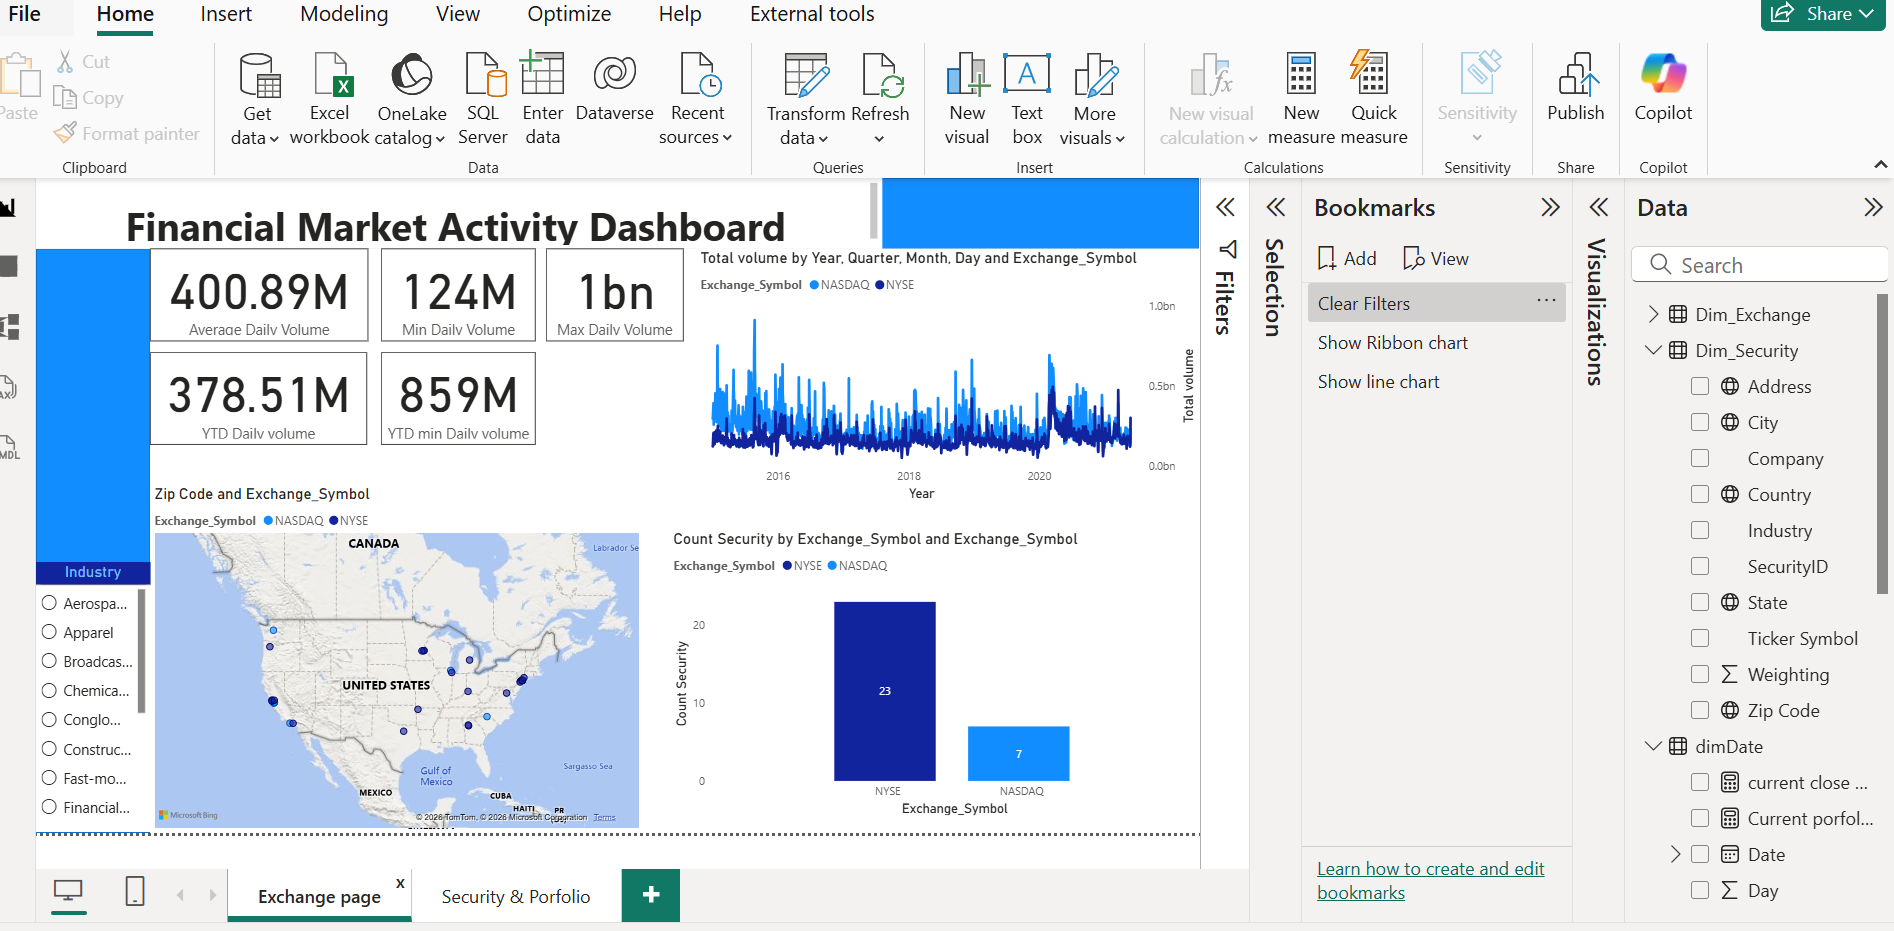

This screenshot's page, from the dashboard's own definition file:
{"tool":"powerbi","page":{"name":"Exchange page","canvas":[1280,720],"ordinal":0},"visuals":[{"type":"shape","box":[0,0,1278.9,77.9],"z":0},{"type":"shape","box":[0,77.9,125.7,642.6],"z":1000},{"type":"textbox","box":[0,0,930.5,77.9],"z":2000},{"type":"card","fields":{"Values":["factActivity.Average Daily Volume"]},"box":[125.7,77.9,240.2,101.8],"z":3000},{"type":"card","fields":{"Values":["dimDate.Min Daily Volume"]},"box":[380.2,77.9,170.2,101.8],"z":4000},{"type":"card","fields":{"Values":["dimDate.Max Daily Volume"]},"box":[561.5,77.9,151.1,101.8],"z":5000},{"type":"card","fields":{"Values":["dimDate.YTD Daily volume"]},"box":[125.7,190.9,238.6,101.8],"z":6000},{"type":"columnChart","fields":{"Category":["Dim_Exchange.Exchange_Symbol"],"Y":["factActivity.Count Security"],"Series":["Dim_Exchange.Exchange_Symbol"]},"box":[696.7,386.5,583.8,319.7],"z":7000},{"type":"map","fields":{"Category":["Dim_Security.Zip Code"],"Series":["Dim_Exchange.Exchange_Symbol"]},"box":[125.7,337.2,542.4,383.3],"z":8000},{"type":"lineChart","fields":{"Y2":["factActivity.Total volume"],"Category":["dimDate.Date.Variation.Date Hierarchy.Year","dimDate.Date.Variation.Date Hierarchy.Quarter","dimDate.Date.Variation.Date Hierarchy.Month","dimDate.Date.Variation.Date Hierarchy.Day"],"Series":["Dim_Exchange.Exchange_Symbol"]},"box":[725.3,77.9,553.5,281.5],"z":9000},{"type":"card","fields":{"Values":["dimDate.YTD min Daily volume"]},"box":[380.2,190.9,170.2,101.8],"z":10000},{"type":"listSlicer","fields":{"Values":["Dim_Security.Industry"]},"box":[0,422.6,126,296.6],"z":10001}]}

Visuals, with their boxes on the page's 1280x720 design canvas (x1, y1, x2, y2). These are canvas units, not pixel positions in the 1894x931 screenshot, which may show the page scaled, cropped or inside an application window:
shape: [0,0,1279,78]
shape: [0,78,126,720]
textbox: [0,0,930,78]
card - factActivity.Average Daily Volume: [126,78,366,180]
card - dimDate.Min Daily Volume: [380,78,550,180]
card - dimDate.Max Daily Volume: [562,78,713,180]
card - dimDate.YTD Daily volume: [126,191,364,293]
columnChart - Dim_Exchange.Exchange_Symbol x factActivity.Count Security: [697,386,1280,706]
map - Dim_Security.Zip Code x Dim_Exchange.Exchange_Symbol: [126,337,668,720]
lineChart - factActivity.Total volume x dimDate.Date.Variation.Date Hierarchy.Year: [725,78,1279,359]
card - dimDate.YTD min Daily volume: [380,191,550,293]
listSlicer - Dim_Security.Industry: [0,423,126,719]
